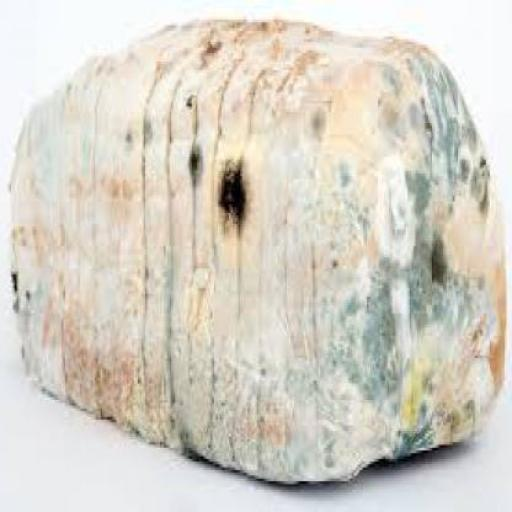biodegradable: (14, 16, 508, 482), (320, 36, 505, 478)
